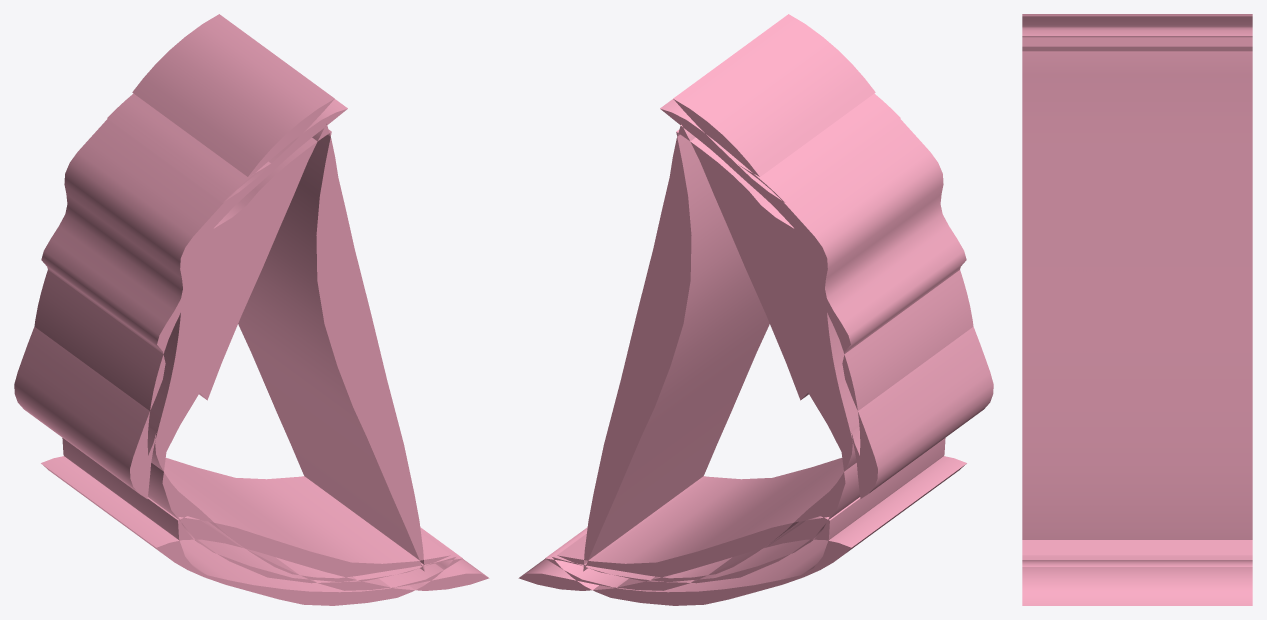
File: HalfDisc_0.fbx
The picture shows the model from 3 angles, left to right: view 1: azimuth 30°, elevation 25°; view 2: azimuth 150°, elevation 25°; view 3: azimuth 270°, elevation 25°; orthographic projection.
Parts seen in each view (by area): view 1: root; view 2: root; view 3: root.
Part boxes in pixels (<box>): root: <box>14,14,489,605</box>; root: <box>518,14,993,605</box>; root: <box>1022,14,1252,605</box>.
Size of the model in its own units: 0.1795 by 0.2476 by 0.1.
